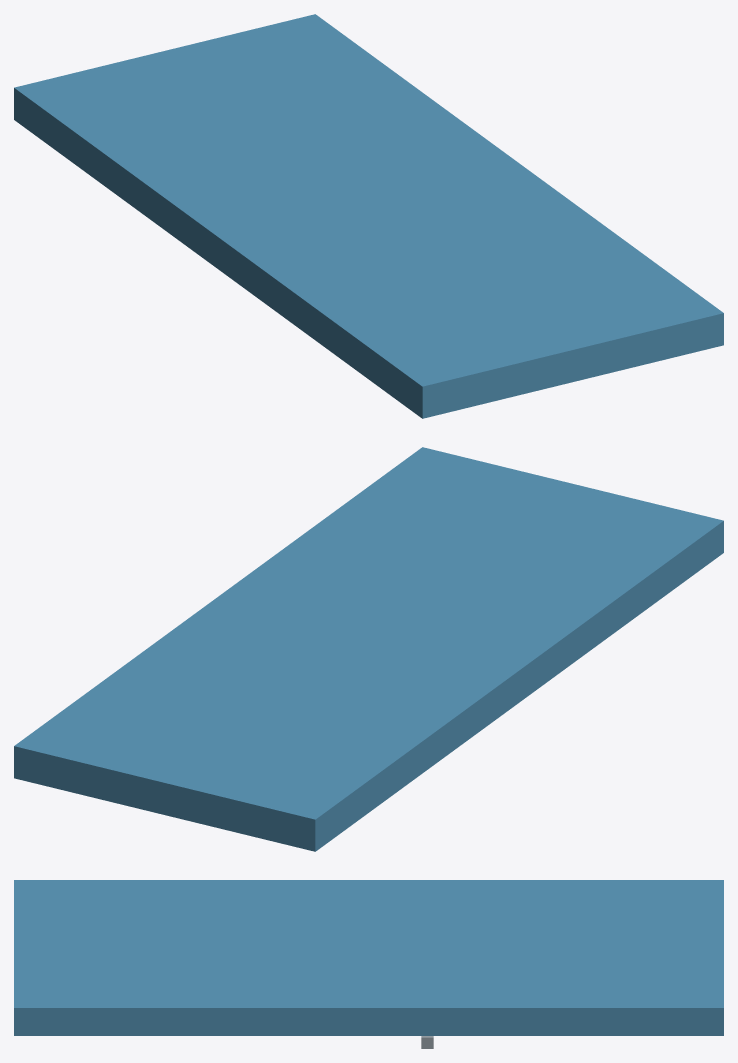
File: clinic_door.glb
3 views of the same model, one above another, from view 1: azimuth 30°, elevation 25°; view 2: azimuth 150°, elevation 25°; view 3: azimuth 270°, elevation 25° (orthographic). The views are drawn at different scales.
Parts seen in each view (by area): view 1: world; view 2: world; view 3: world.
Part boxes in pixels (bbox=[...]): world: bbox=[14, 14, 723, 418]; world: bbox=[14, 447, 723, 851]; world: bbox=[14, 880, 723, 1048].
Size of the model in its own units: 0.98 by 0.17 by 2.3.
